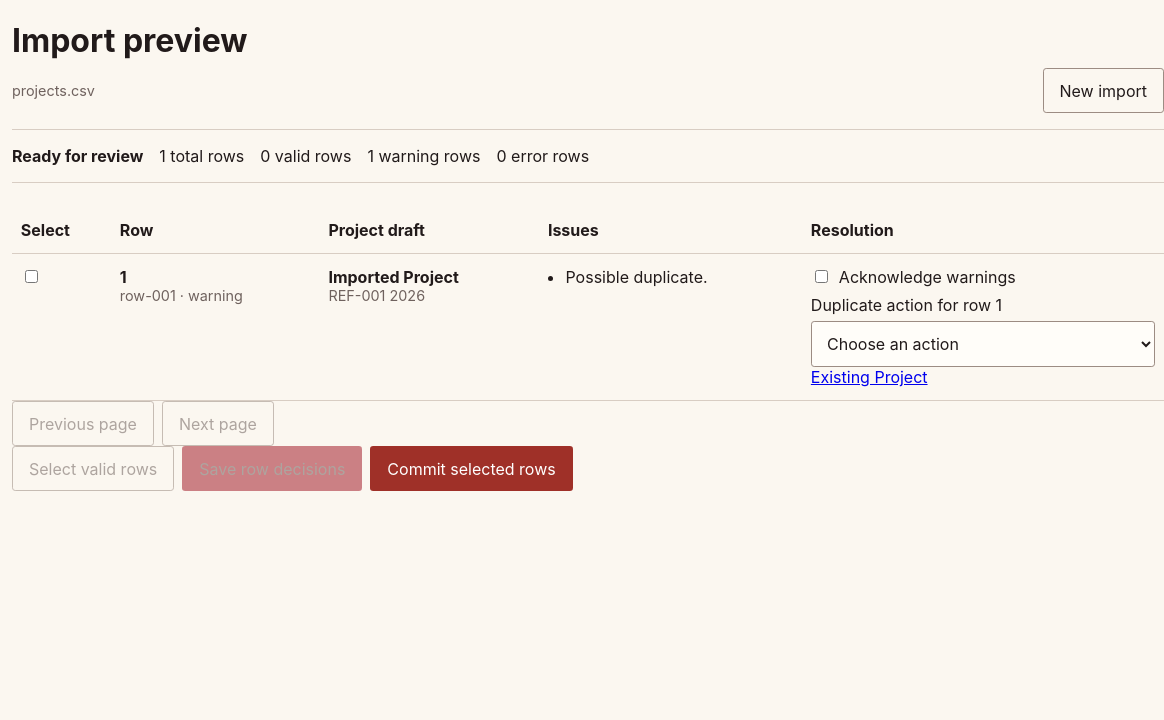
Import management › persists warning and duplicate decisions before committing selected rows
Expected: the text "Imported Project" is shown, top-left (328, 267), bottom-right (459, 287)
Step 1. Click the checkbox named "Select row 1" → x=31, y=276, box top-left (25, 270), bottom-right (38, 283)
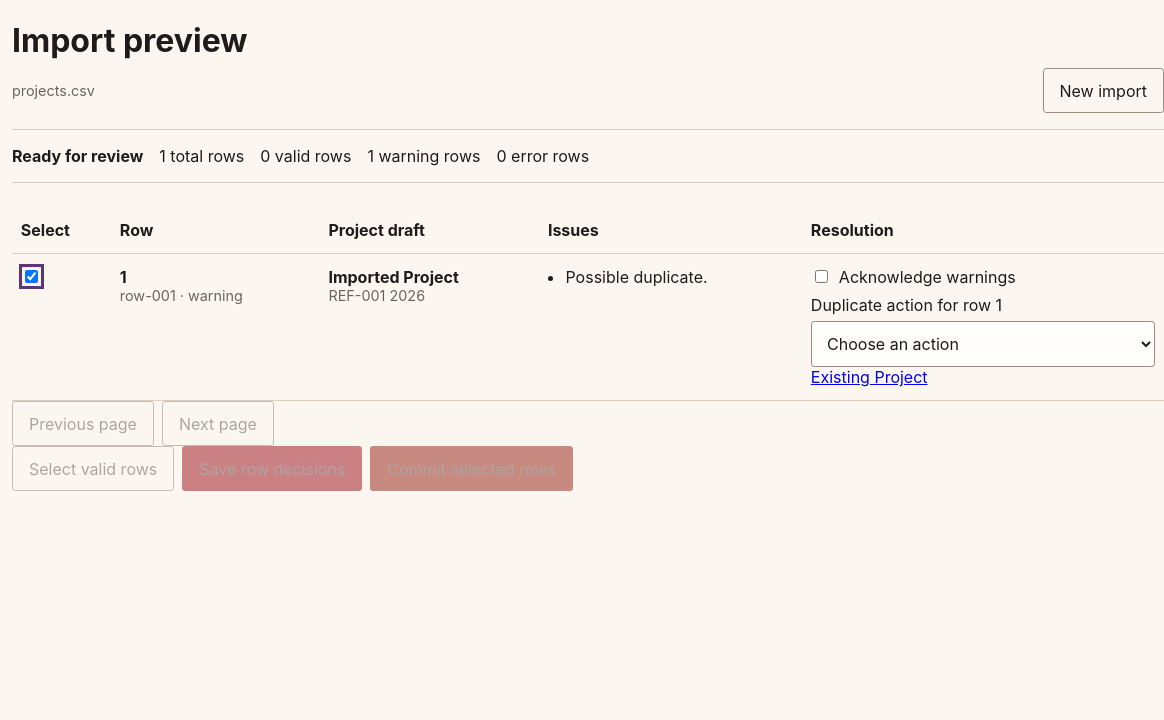
Step 2. Click the checkbox labelled "Acknowledge warnings" → x=821, y=277, box top-left (815, 270), bottom-right (828, 283)
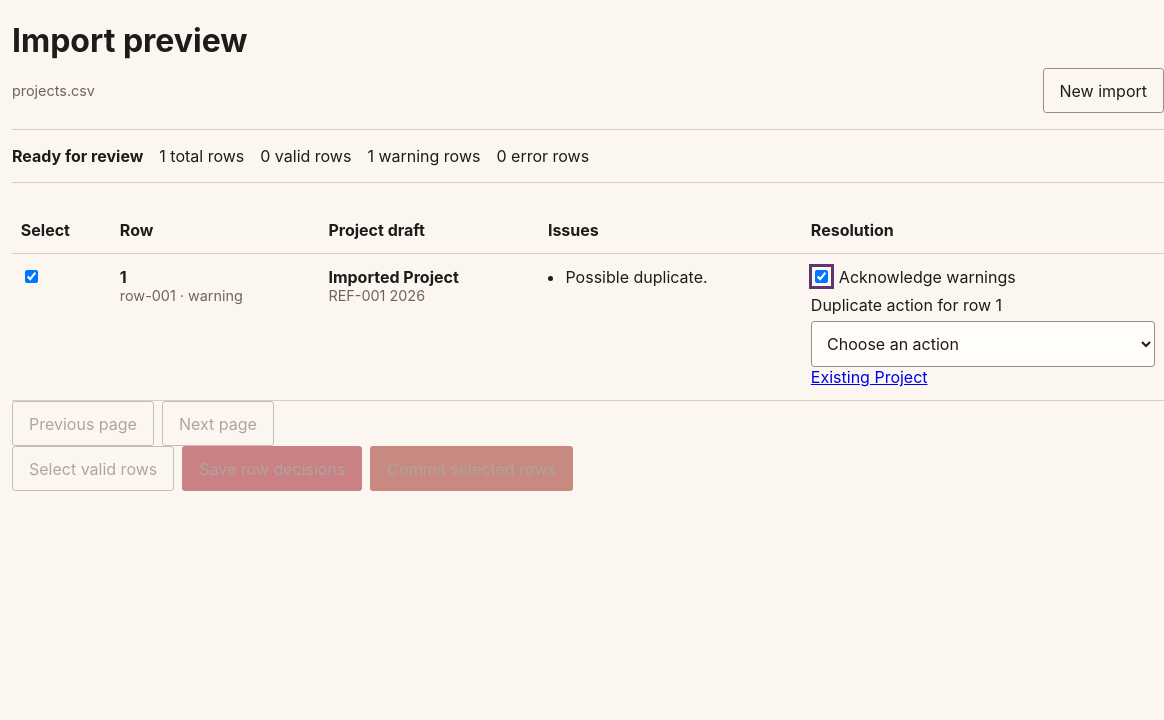
Step 3. Select "Create a distinct Project" in the dropdown labelled "Duplicate action for row 1" → x=983, y=344, box top-left (811, 321), bottom-right (1155, 367)
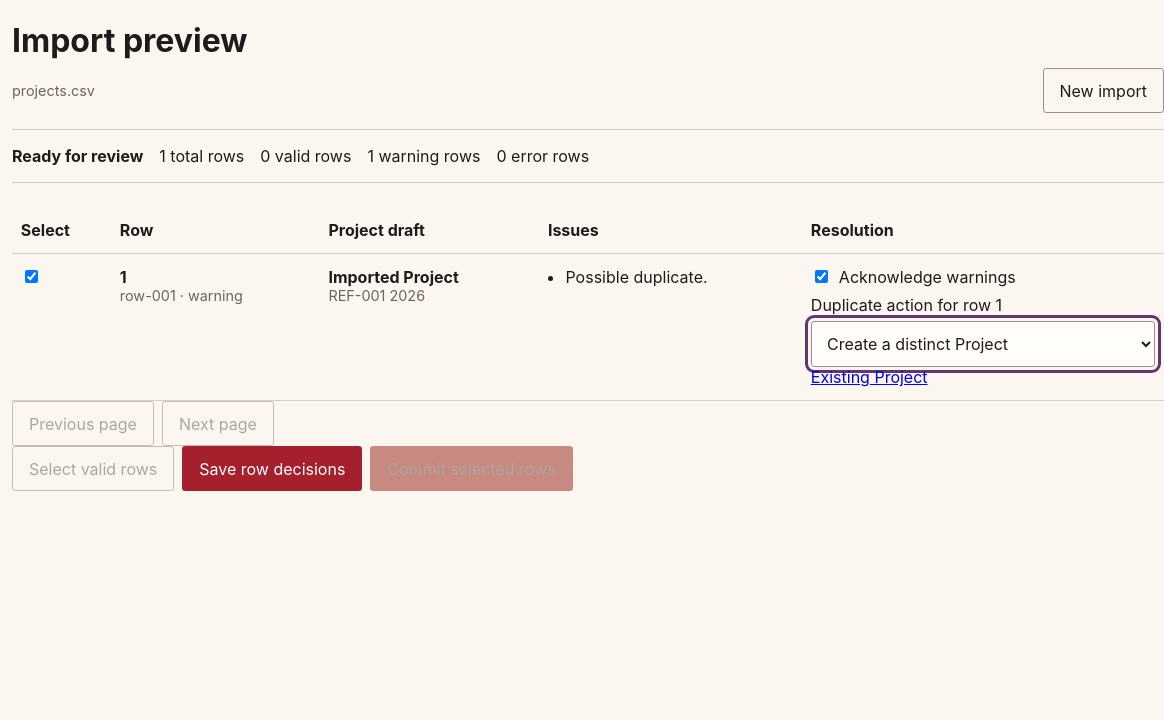
Step 4. Click the button "Save row decisions" → x=272, y=469, box top-left (182, 446), bottom-right (362, 491)
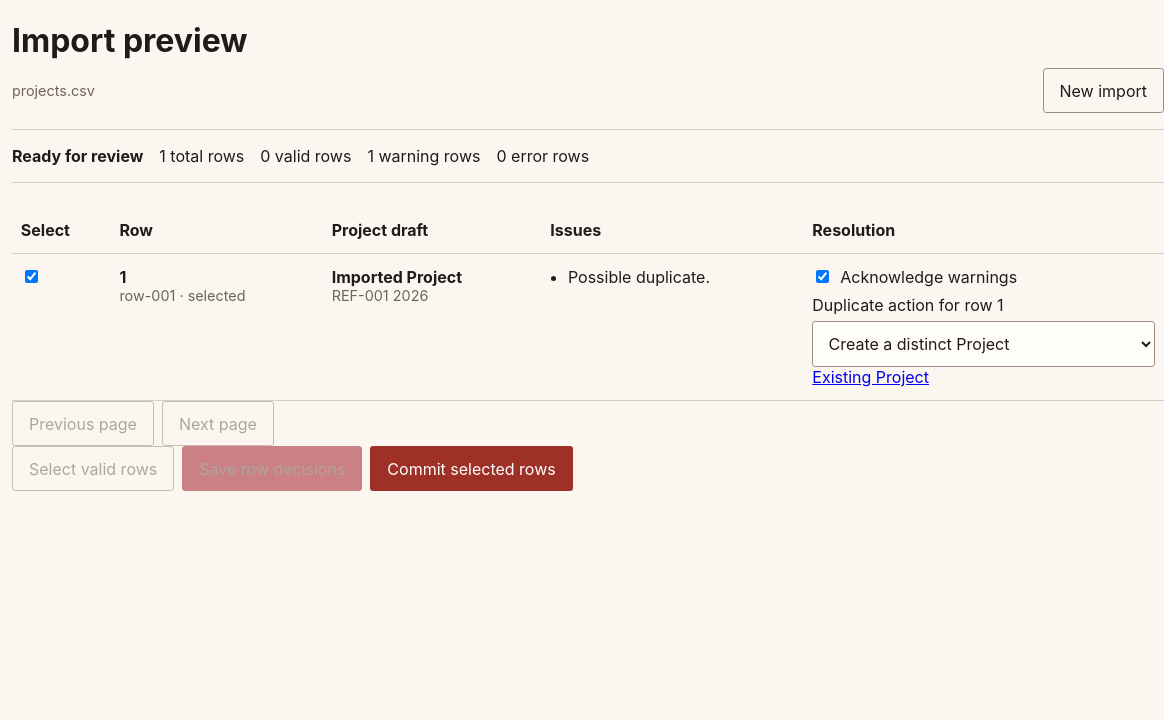
Step 5. Click the button "Commit selected rows" → x=472, y=469, box top-left (370, 446), bottom-right (573, 491)
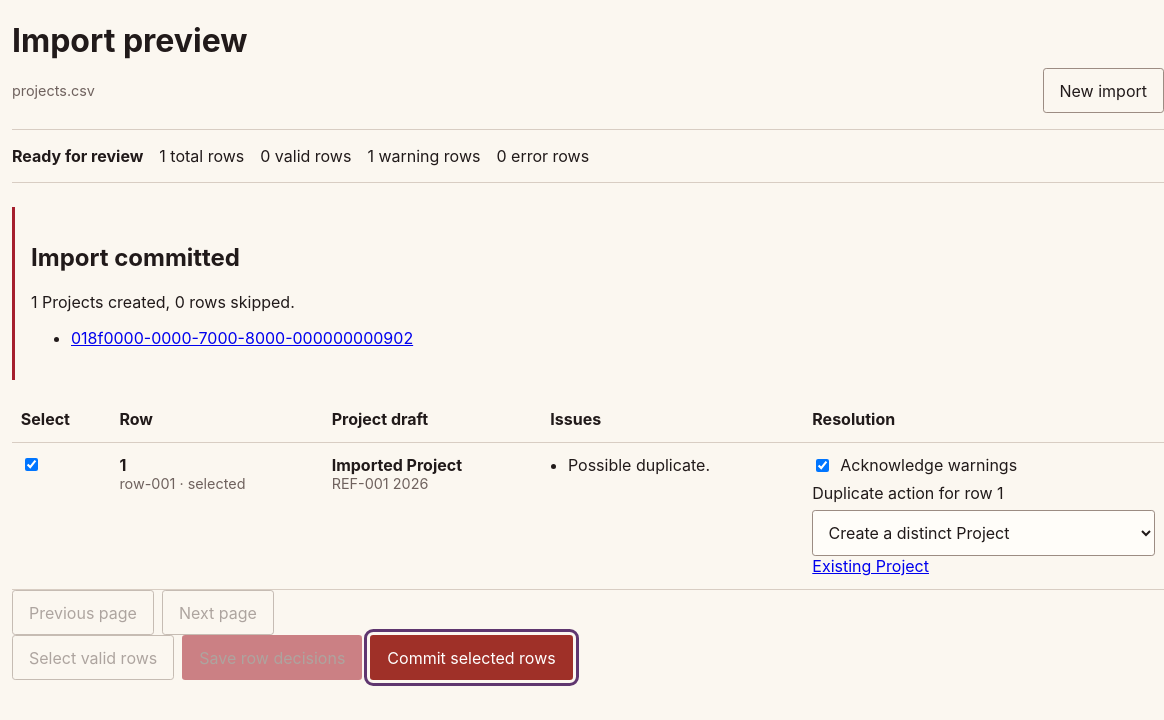
Now the heading "Import committed" is shown, box top-left (31, 243), bottom-right (240, 272)
Now the link "018f0000-0000-7000-8000-000000000902" is shown, box top-left (71, 328), bottom-right (413, 348)
